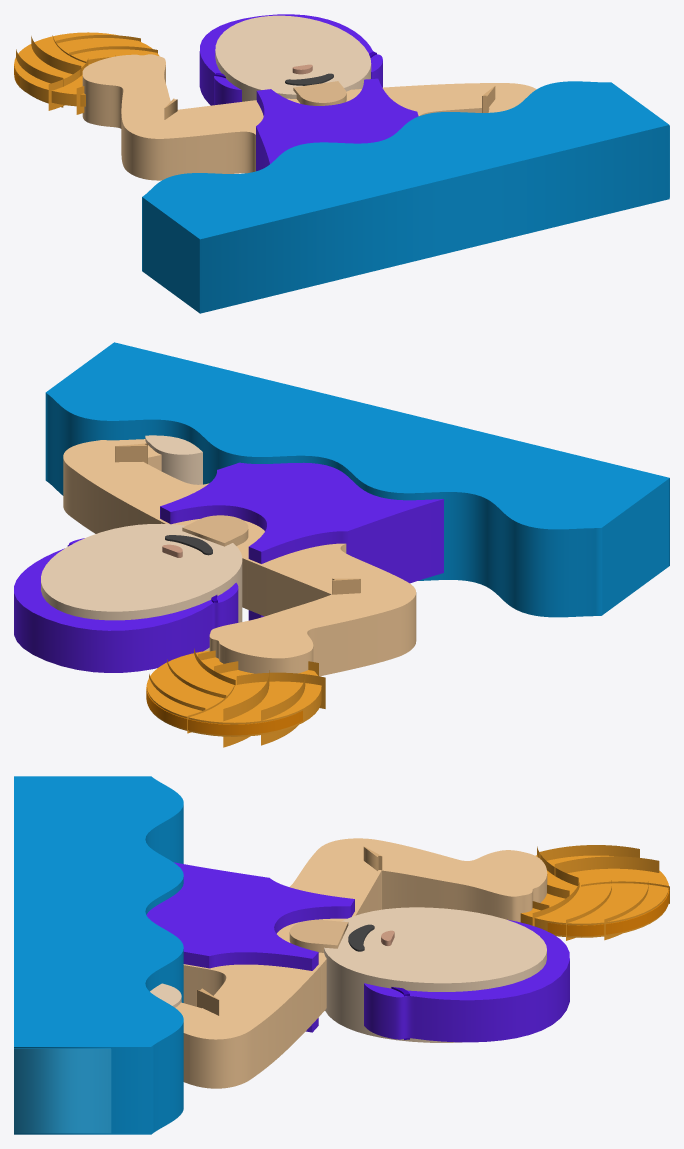
Rendered from emoji_u1f93d_1f3fb_200d_2640.glb.
The picture shows the model from 3 angles, top to bottom: view 1: azimuth 30°, elevation 25°; view 2: azimuth 150°, elevation 25°; view 3: azimuth 270°, elevation 25°; orthographic projection. The views are drawn at different scales.
Parts seen in each view (by area): view 1: emoji_u1f93d_1f3fb_200d_2640; view 2: emoji_u1f93d_1f3fb_200d_2640; view 3: emoji_u1f93d_1f3fb_200d_2640.
Part boxes in pixels (x1,y1,x2,y2): emoji_u1f93d_1f3fb_200d_2640: (14, 14, 669, 313); emoji_u1f93d_1f3fb_200d_2640: (14, 342, 669, 747); emoji_u1f93d_1f3fb_200d_2640: (14, 776, 669, 1134).
Size of the model in its own units: 0.0331 by 0.005 by 0.0338.
